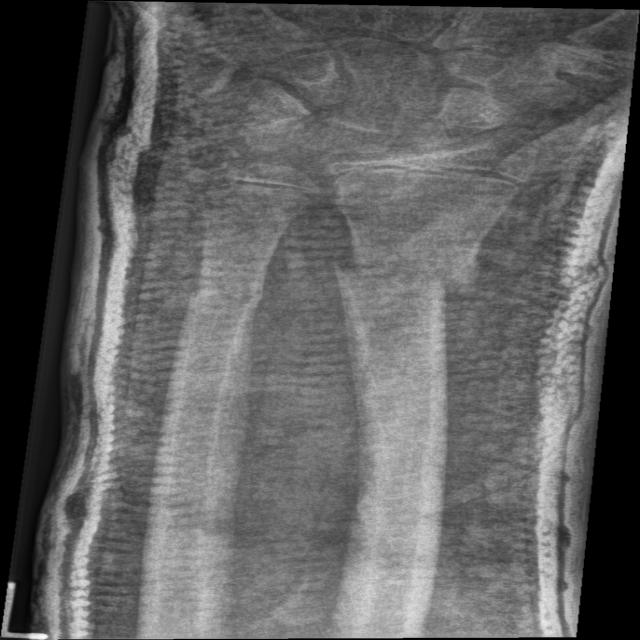radius fracture: (303, 216, 522, 344)
